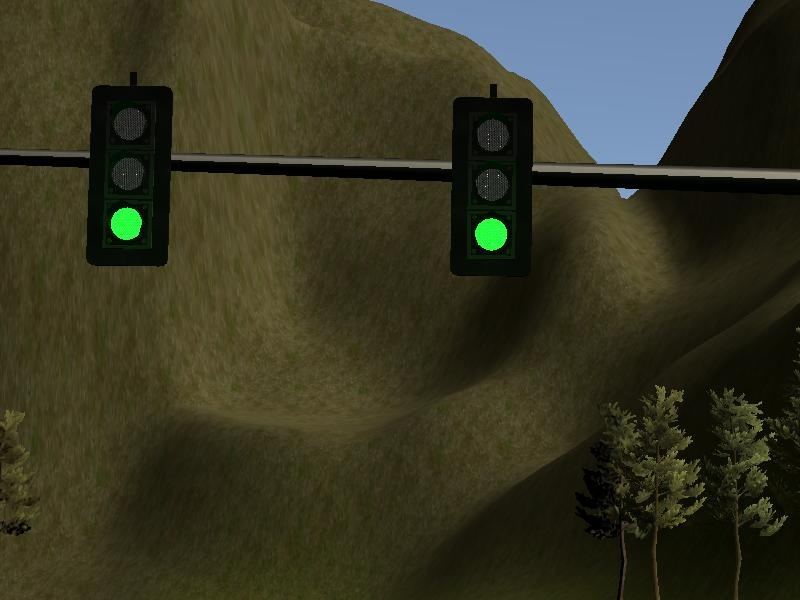GREEN: (447, 94, 538, 279), (87, 82, 177, 269)
